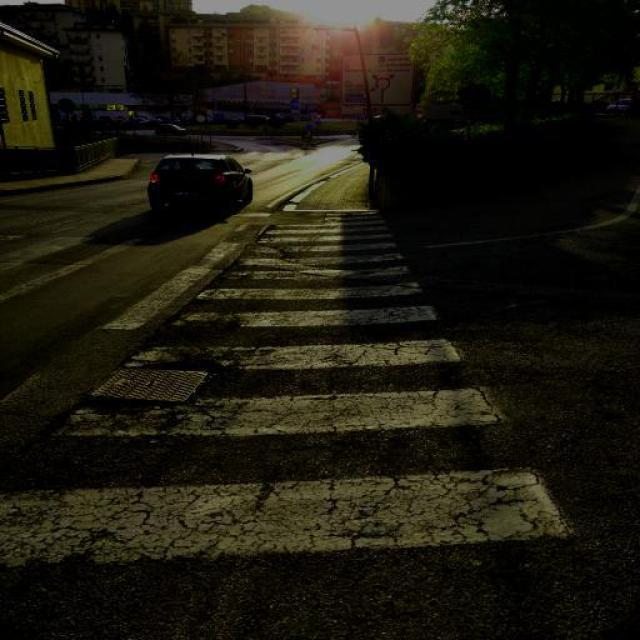crosswalk: (0, 219, 584, 568)
